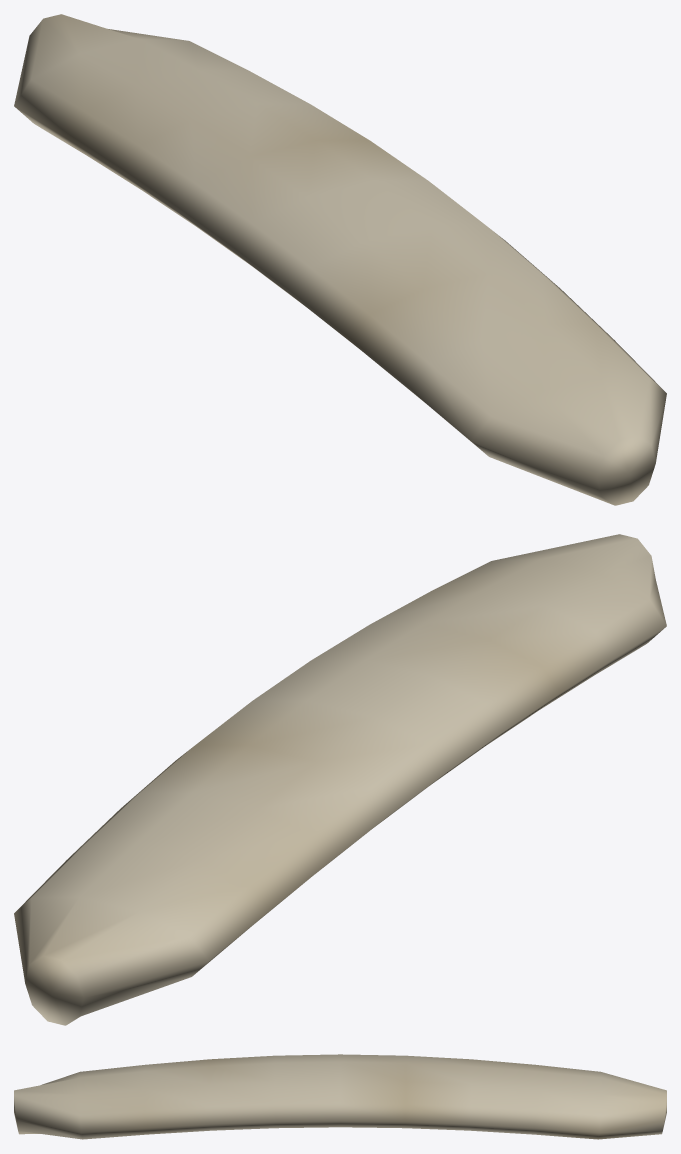
The model's file is bone-rib-b.glb.
3 views of the same model, one above another, from view 1: azimuth 30°, elevation 25°; view 2: azimuth 150°, elevation 25°; view 3: azimuth 270°, elevation 25° (orthographic). The views are drawn at different scales.
Parts seen in each view (by area): view 1: bone-rib-b; view 2: bone-rib-b; view 3: bone-rib-b.
Boxes of the visible parts, x1,y1,x2,y2 form: bone-rib-b: (14, 14, 666, 505); bone-rib-b: (14, 534, 666, 1025); bone-rib-b: (14, 1054, 666, 1139).
Size of the model in its own units: 0.22 by 0.1028 by 1.01.
